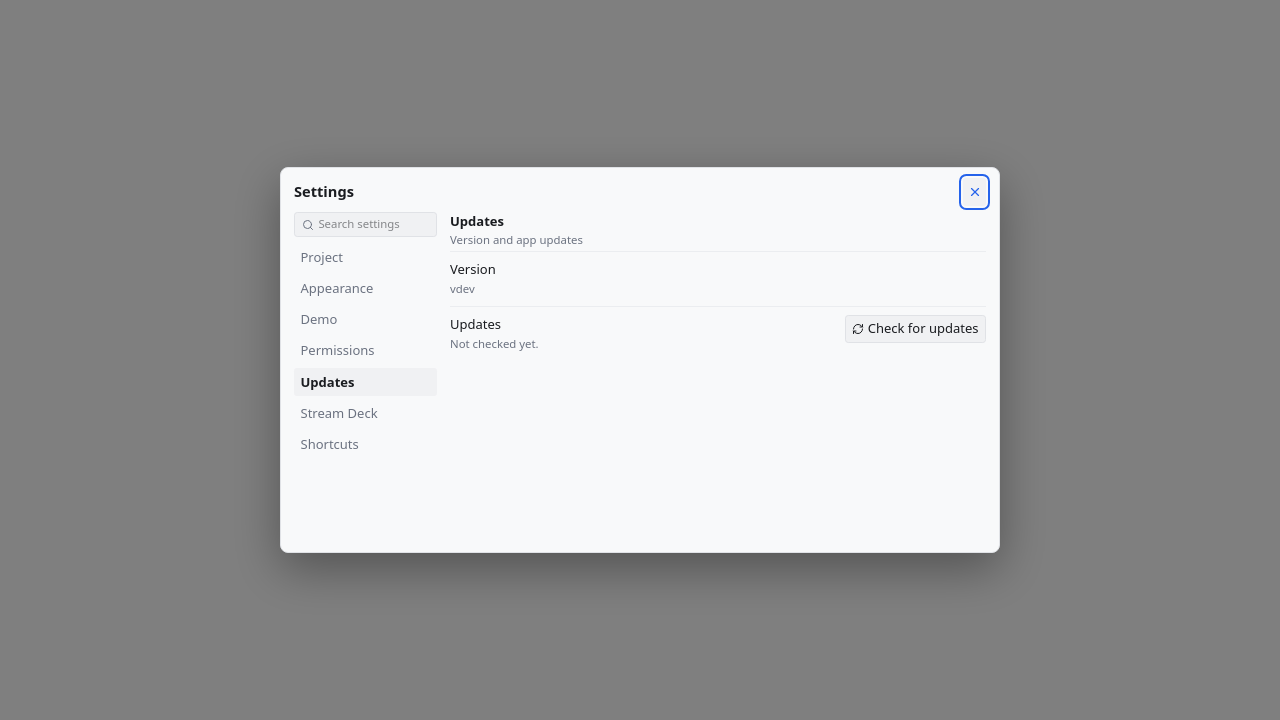
it: SettingsDialog › checks for updates and reports the result
Expected: the text with test id "settings-version" reads "vdev", [450,281,475,296]
Expected: the text with test id "settings-update-status" reads "Not checked yet.", [450,336,539,351]
Click the button with test id "settings-update-check": (915, 329) [845,315,986,343]
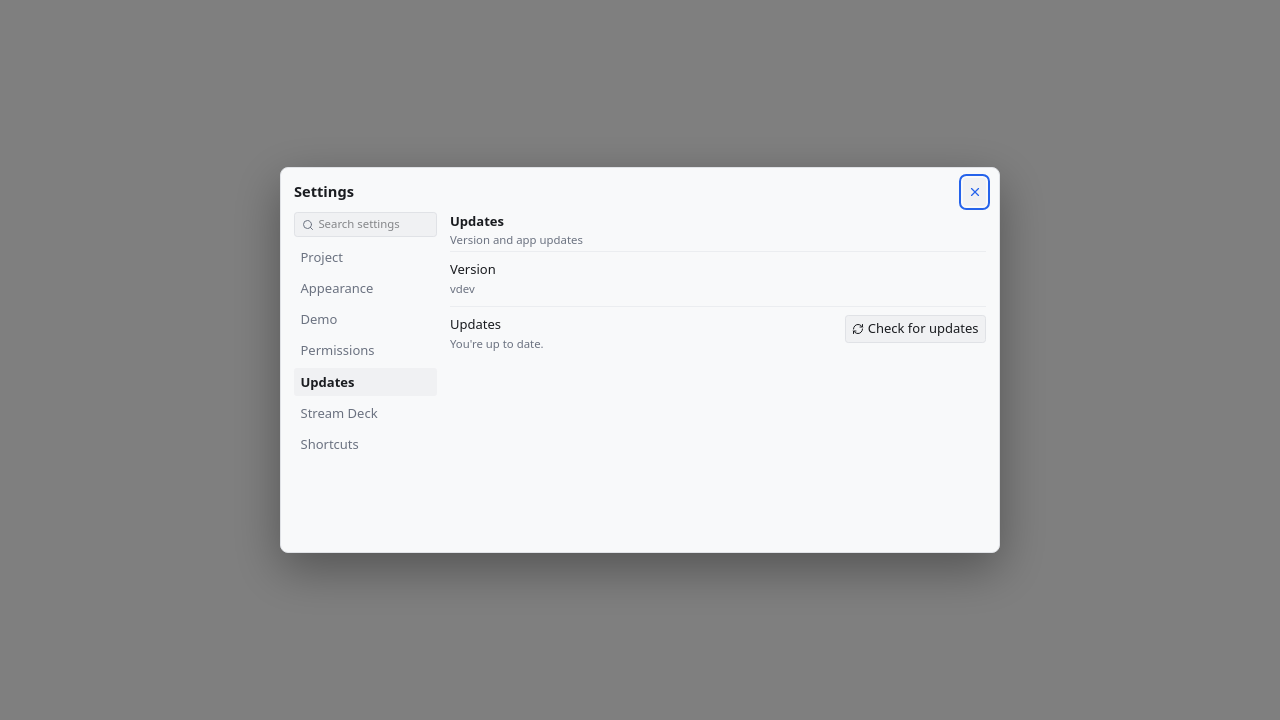
Now the text with test id "settings-update-status" reads "You're up to date.", box [450,336,544,351]
